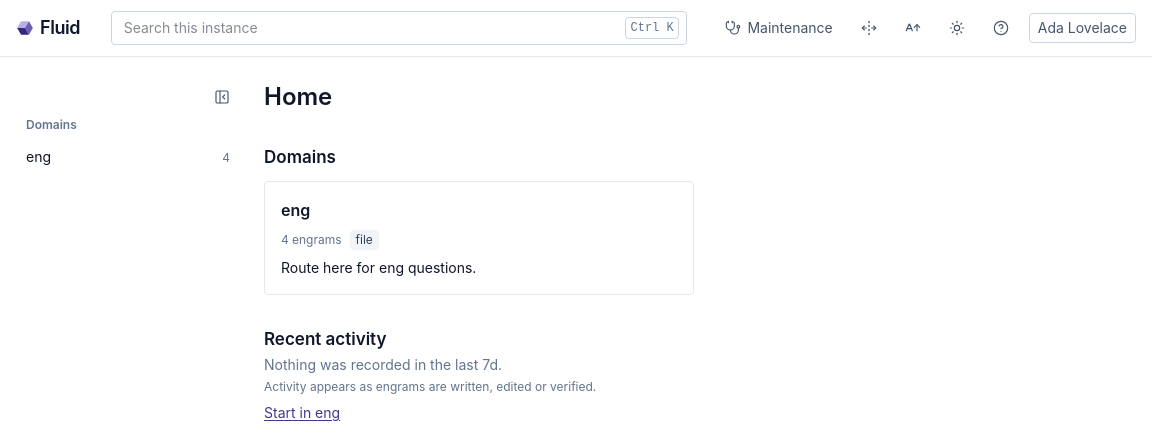
the layout › routes the search box to the search screen
This screenshot has width=1152, height=438.
Check: the heading "Home" is shown, box 264,82 -> 332,111
Type "salience" into the search field labelled "Search". click: (399, 28)
box: 111,11 -> 687,45
Then press Enter
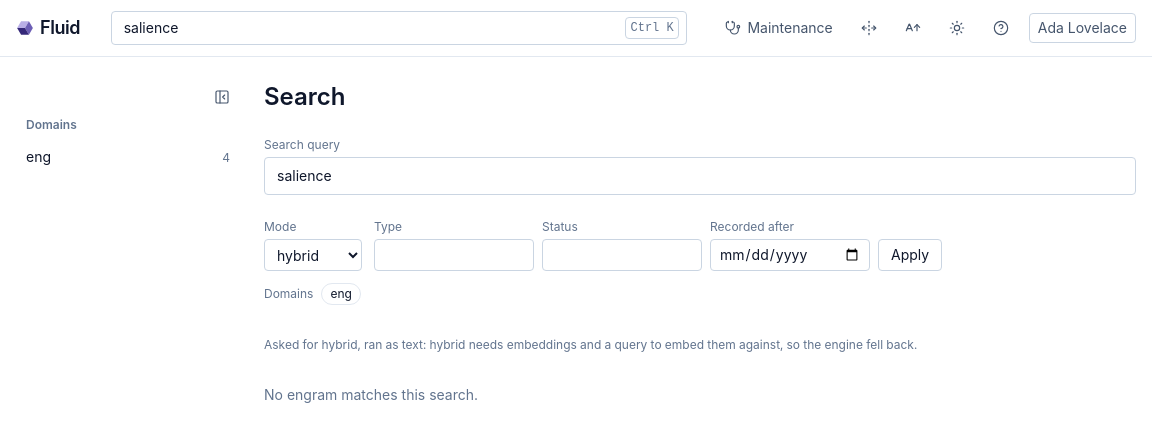
Check: the heading "Search" is shown, box 264,82 -> 346,111
Check: the text "No engram matches this search." is shown, box 264,386 -> 478,403
